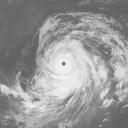cyclone: (33, 35, 95, 99)
